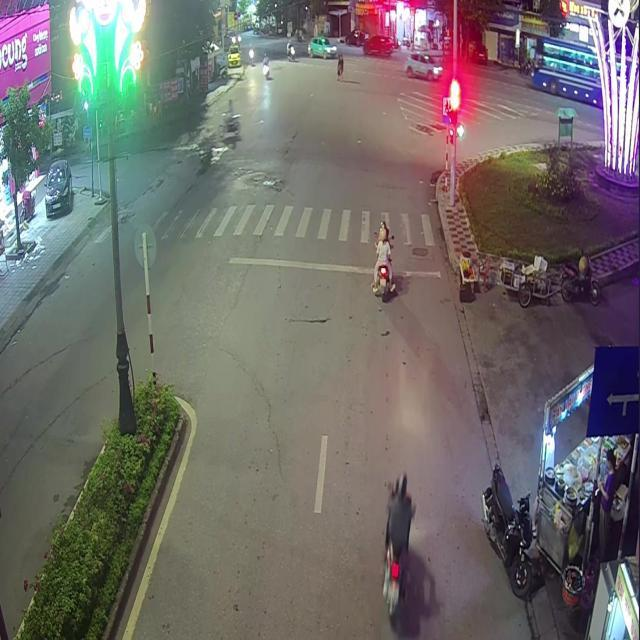motobike: (382, 545, 404, 625), (376, 263, 391, 300)
red_light: (450, 92, 457, 125)
stop_line: (226, 256, 440, 277)
